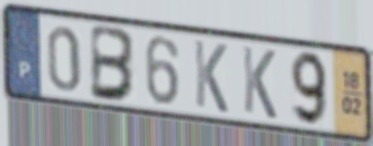0: (44, 23, 85, 93)
6: (143, 34, 182, 109)
9: (287, 49, 329, 129)
B: (89, 22, 138, 105)
K: (240, 42, 279, 122), (192, 36, 230, 116)
